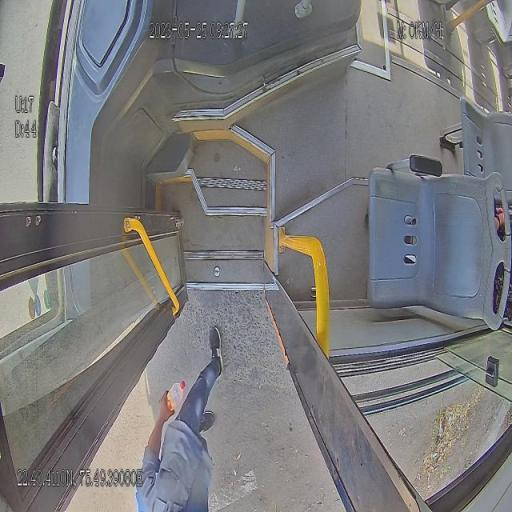persona: (136, 324, 224, 511)
